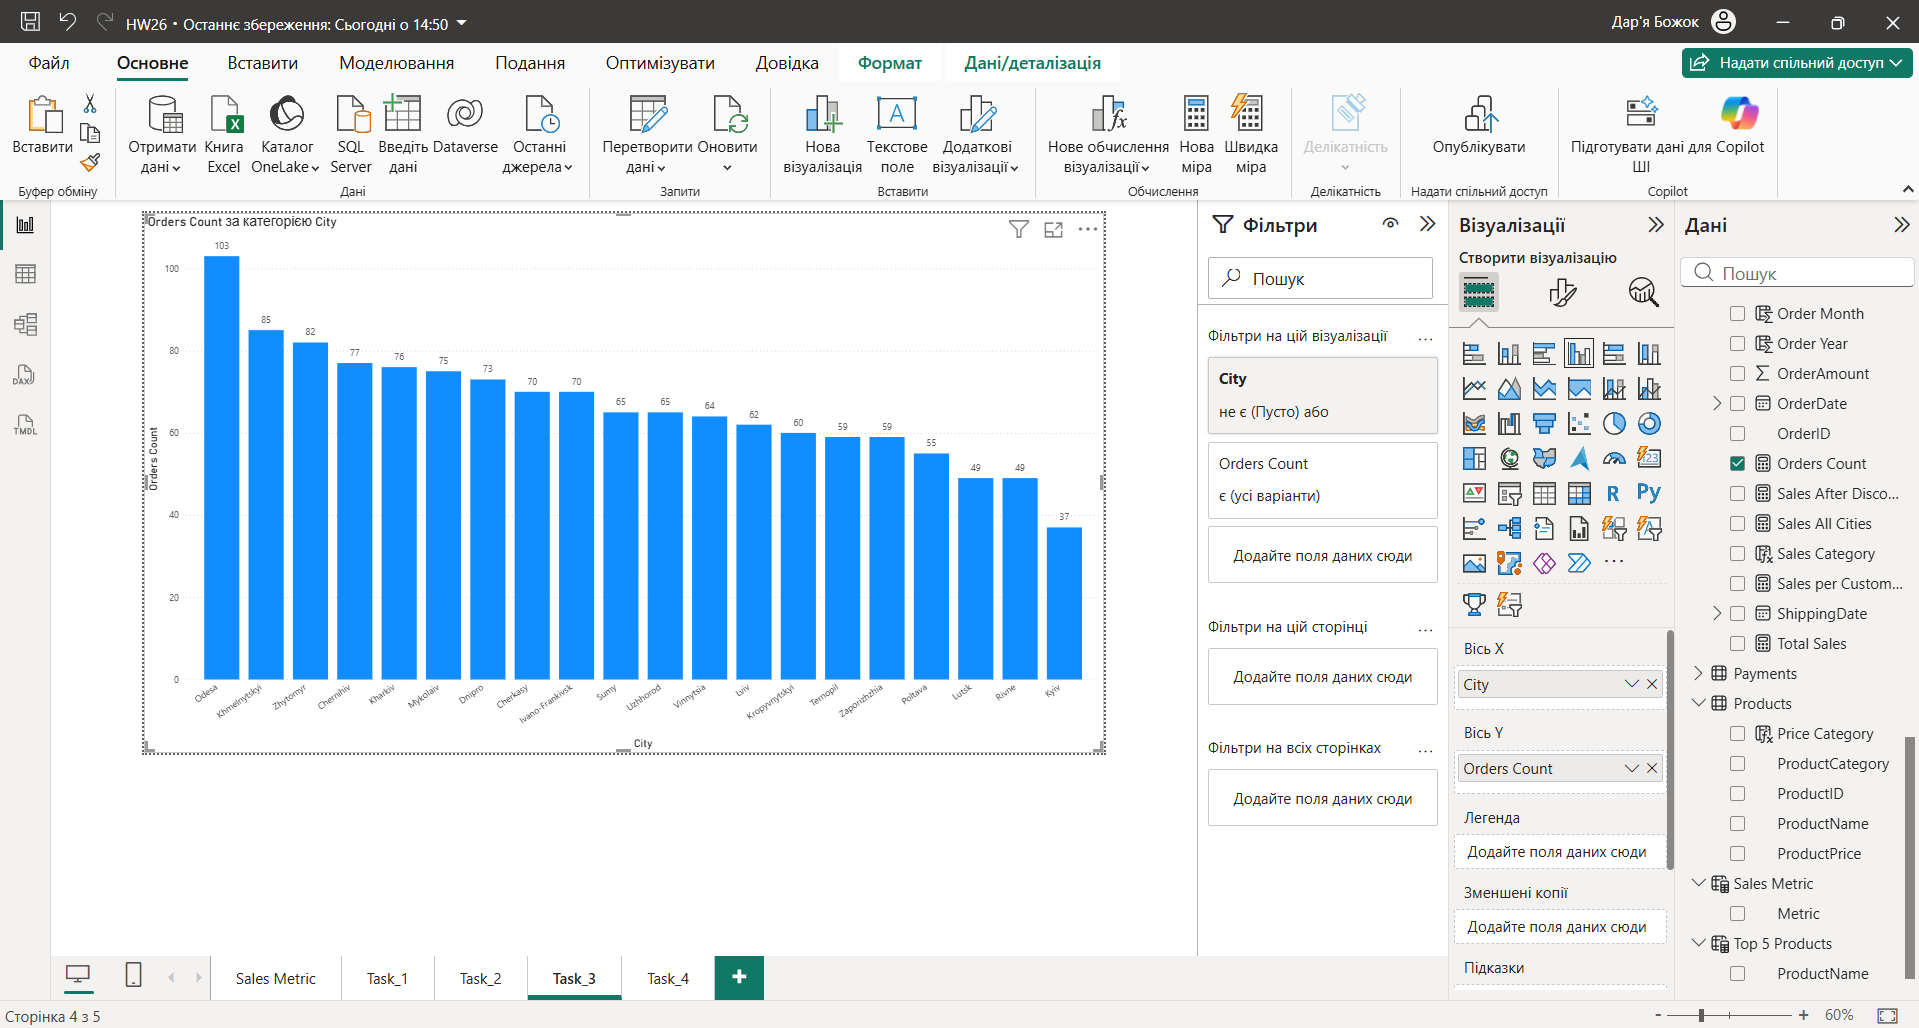

The page's visual inventory and layout, read from the dashboard file:
{"tool":"powerbi","page":{"name":"Task_3","canvas":[1280,720],"ordinal":3},"visuals":[{"type":"clusteredColumnChart","fields":{"Y":["Orders.Orders Count"],"Category":["Customers.City"]},"box":[0,0,1280,720],"z":0}]}

Visuals, with their boxes on the page's 1280x720 design canvas (x1, y1, x2, y2). These are canvas units, not pixel positions in the 1919x1028 screenshot, which may show the page scaled, cropped or inside an application window:
clusteredColumnChart - Orders.Orders Count x Customers.City: (left=0, top=0, right=1280, bottom=720)
